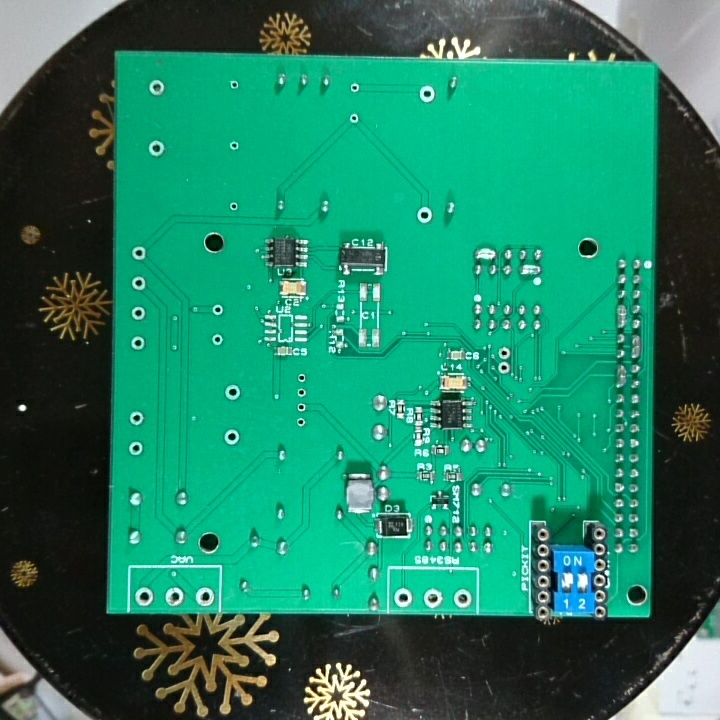F: (159, 583, 187, 609), (391, 583, 414, 610), (133, 583, 156, 607), (450, 586, 473, 610), (422, 586, 445, 609), (146, 138, 169, 160), (147, 77, 169, 100), (194, 584, 214, 609), (414, 204, 436, 226), (125, 438, 146, 460), (125, 409, 148, 429), (222, 383, 245, 403), (222, 426, 241, 449), (417, 83, 437, 104), (128, 303, 148, 324), (128, 333, 148, 353), (495, 358, 514, 377), (130, 274, 148, 294), (346, 109, 363, 128), (130, 245, 148, 262), (208, 331, 225, 349), (226, 76, 242, 94), (209, 302, 225, 320), (225, 138, 242, 154), (496, 344, 512, 361), (346, 80, 362, 96), (295, 383, 310, 400), (226, 200, 242, 215), (293, 415, 309, 429), (294, 400, 309, 414), (295, 371, 309, 384)
P: (613, 360, 631, 390), (517, 260, 544, 277), (614, 301, 629, 331), (473, 246, 498, 263), (629, 332, 644, 360)
